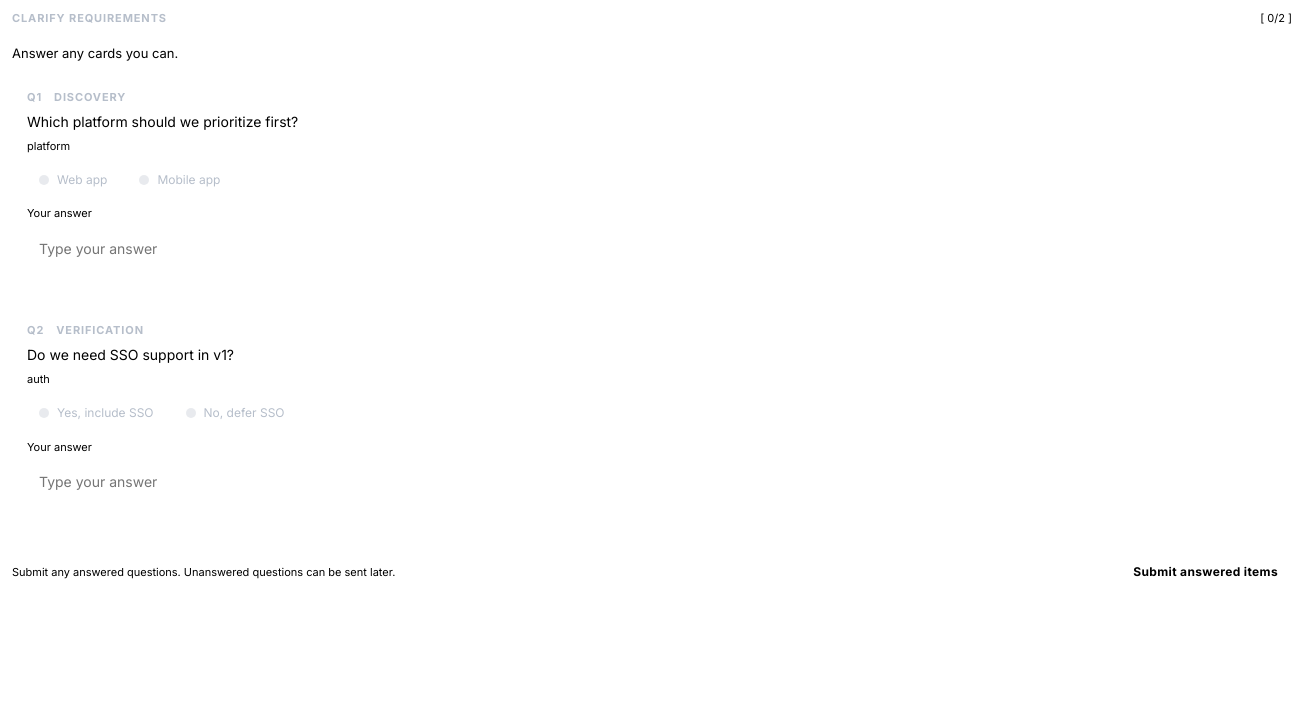
Scenario: QuestionCanvas › keeps unrelated draft selectors stable when one answer changes
Type "x" into the text box named "Custom text for item-1".
click(652, 256); type("x")  # box left=27, top=228, right=1277, bottom=284
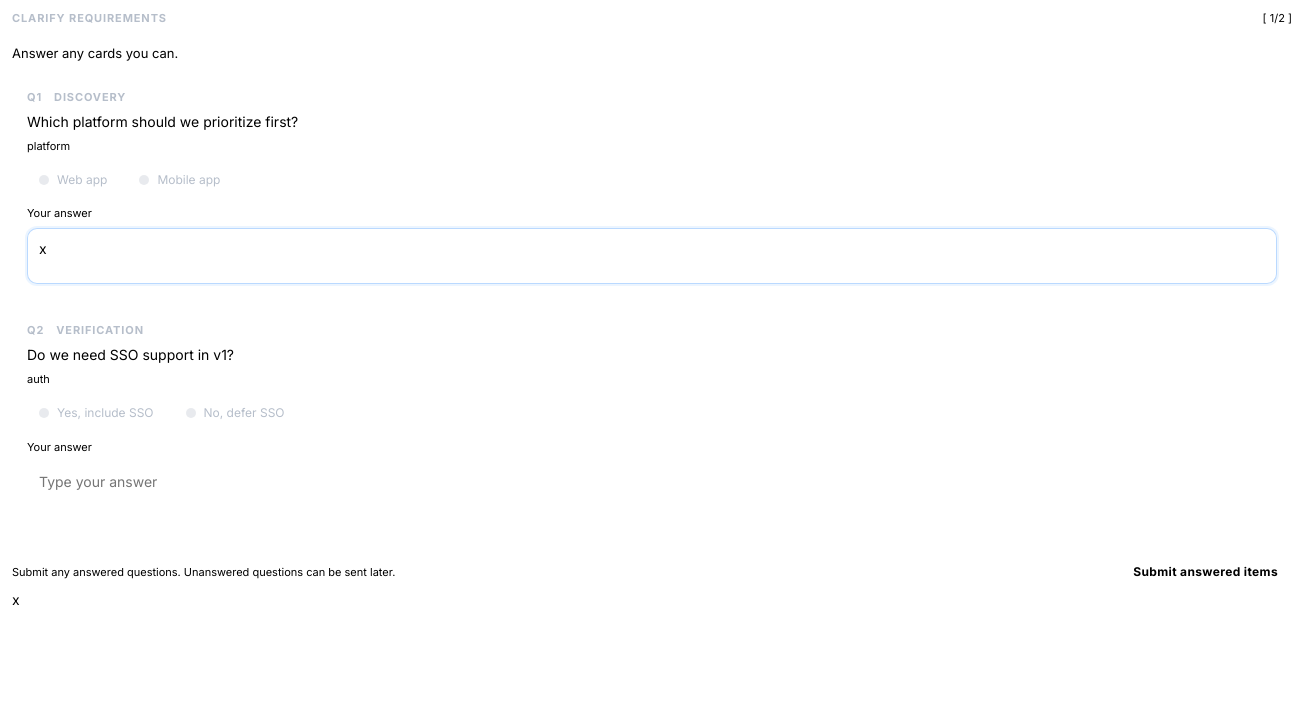
Expected: the text with test id "probe-item-1" reads "x", left=12, top=591, right=20, bottom=608
